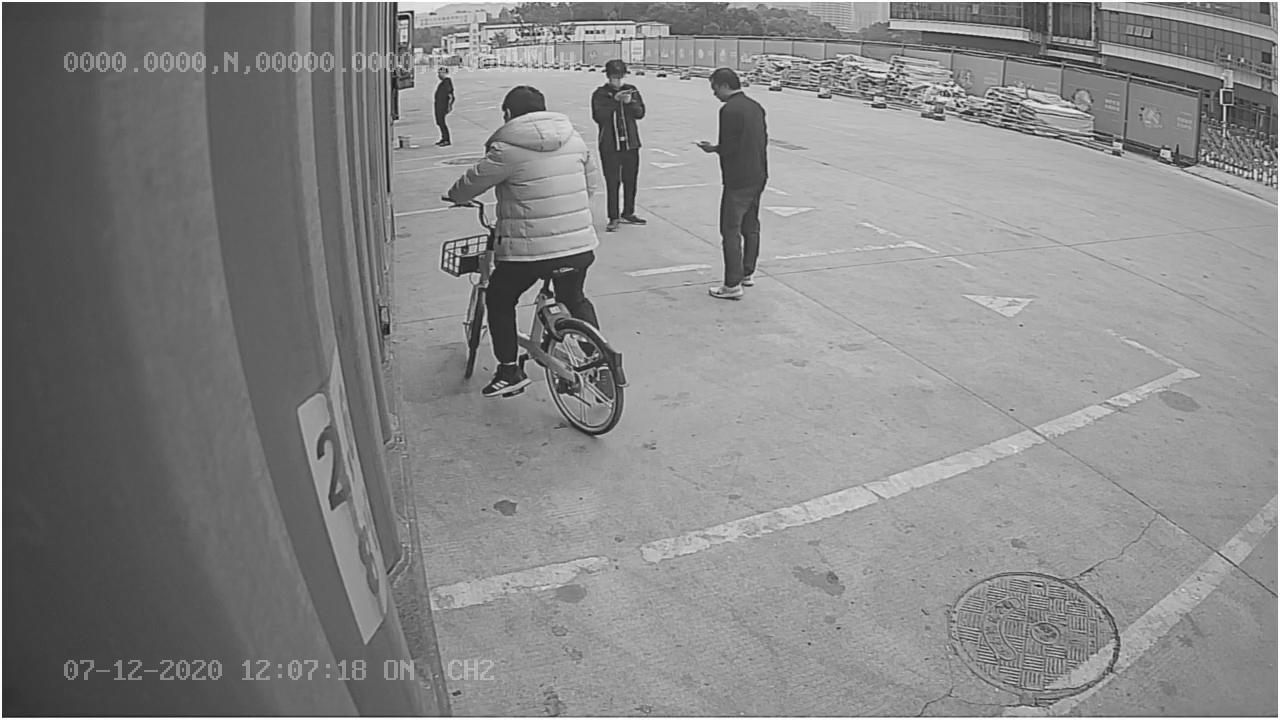person: (697, 64, 777, 304)
